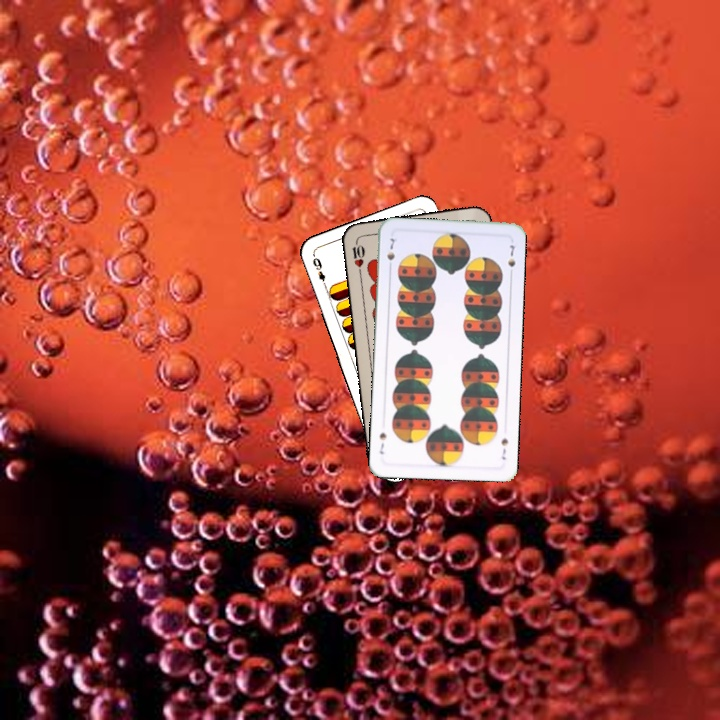E9: (309, 251, 329, 290)
H10: (348, 236, 367, 276)
S7: (383, 234, 397, 273), (497, 433, 510, 462)
